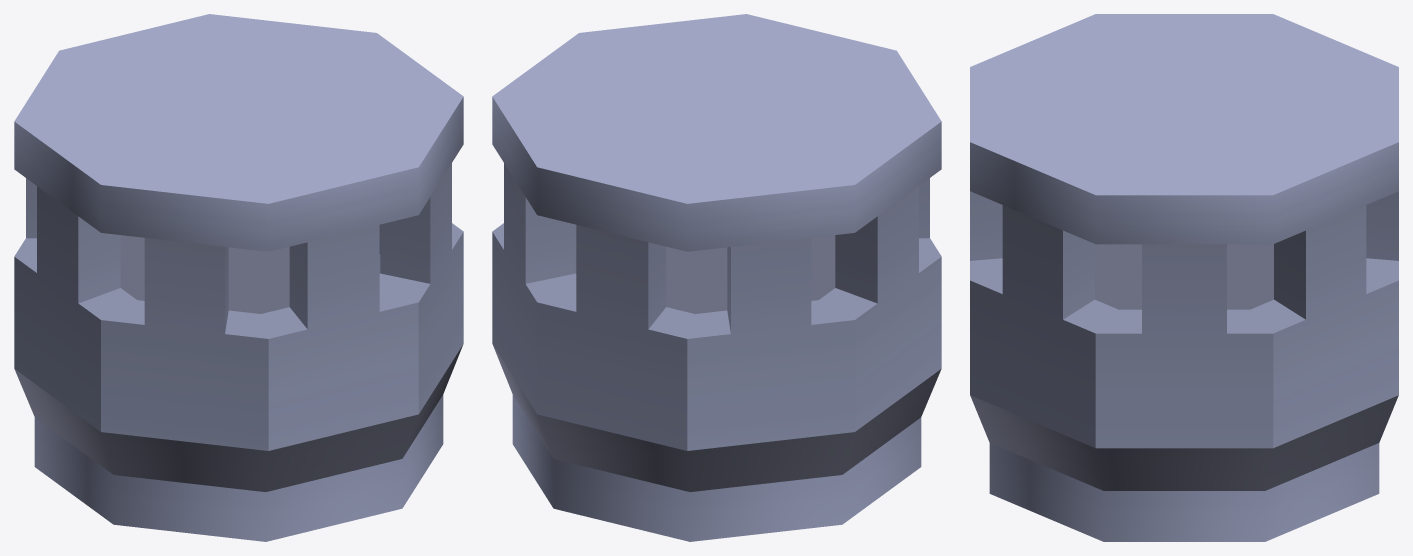
Rendered from tower-watch.glb.
3 renders of one model, left to right at view 1: azimuth 30°, elevation 25°; view 2: azimuth 150°, elevation 25°; view 3: azimuth 270°, elevation 25°, orthographic. The views are drawn at different scales.
Parts seen in each view (by area): view 1: tower-watch; view 2: tower-watch; view 3: tower-watch.
Boxes of the visible parts, x1,y1,x2,y2 form: tower-watch: (14,14,463,541); tower-watch: (492,14,941,541); tower-watch: (970,14,1398,541).
Bounding box in the file's own units: 3.05 × 2.78 × 3.05.
Materials: 1 (1 with a texture image).
